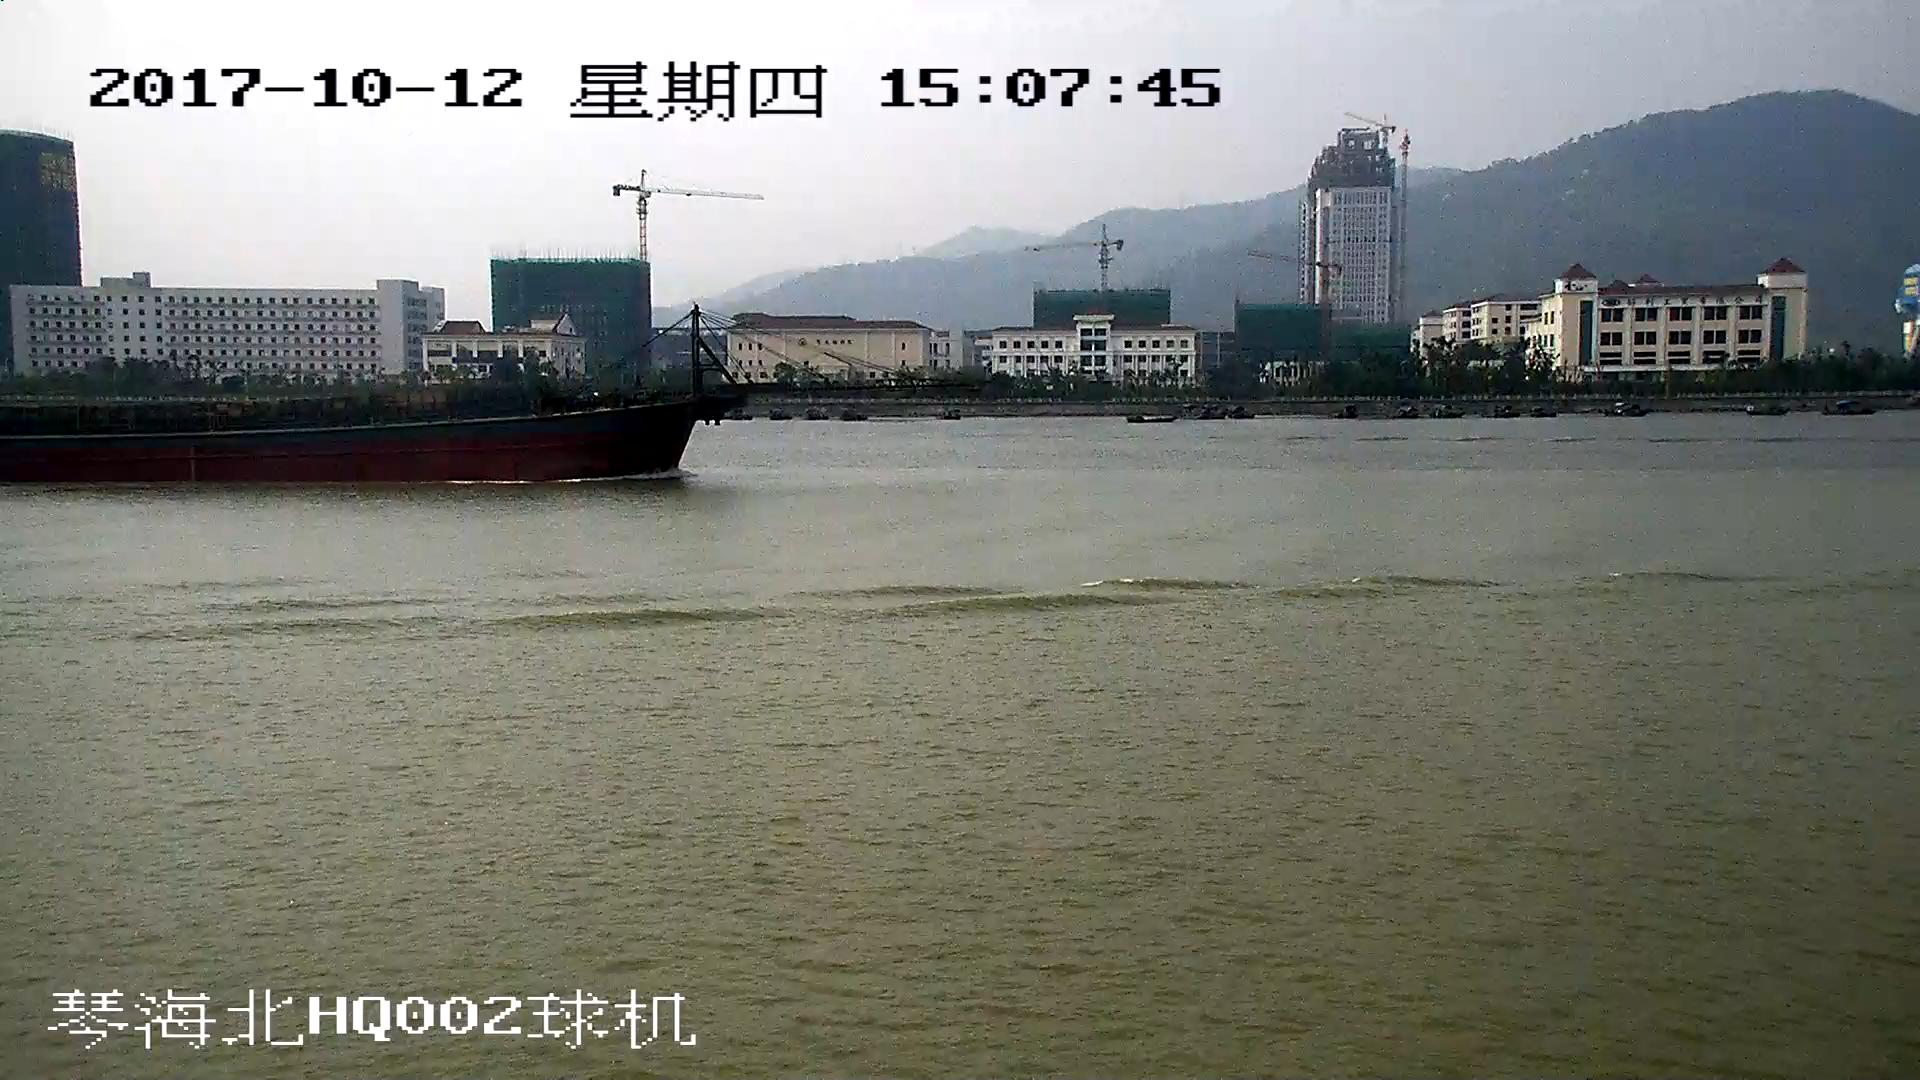bulk cargo carrier: (1, 307, 854, 484)
